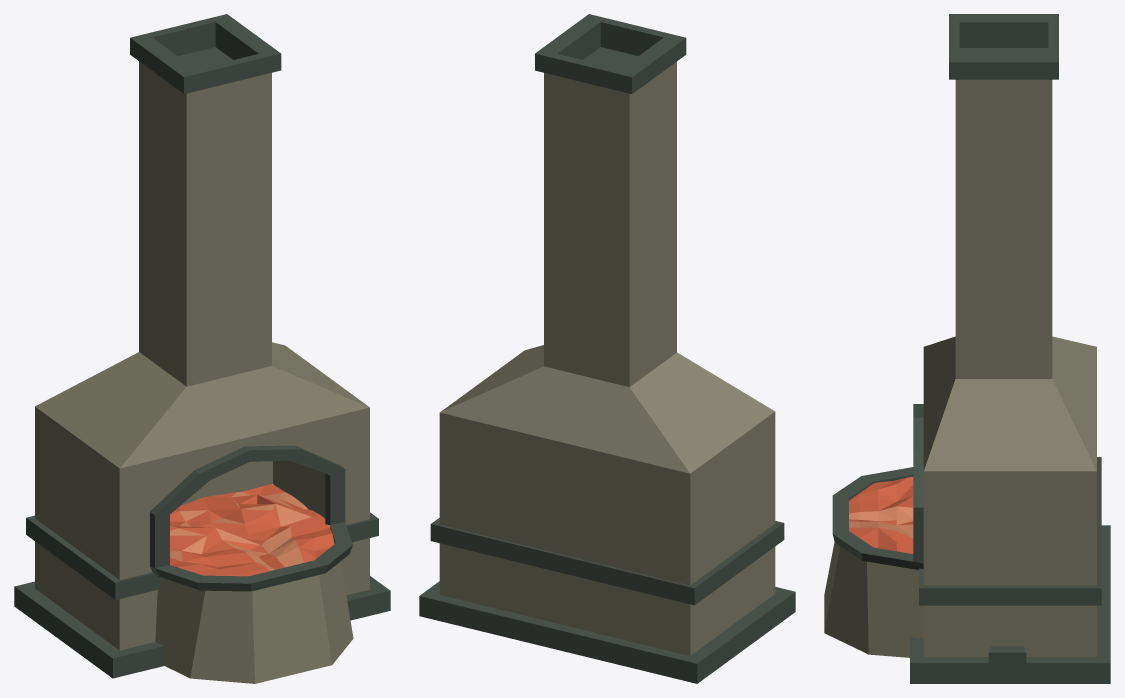
File: Heater_2_mat.fbx
3 views of the same model, side by side, from view 1: azimuth 30°, elevation 25°; view 2: azimuth 150°, elevation 25°; view 3: azimuth 270°, elevation 25° (orthographic). The views are drawn at different scales.
Visible parts, largest first — view 1: Heater_2_mat; view 2: Heater_2_mat; view 3: Heater_2_mat.
Part boxes in pixels (bbox=[...]): Heater_2_mat: bbox=[14, 14, 390, 683]; Heater_2_mat: bbox=[419, 14, 795, 683]; Heater_2_mat: bbox=[824, 14, 1110, 683].
Bounding box in the file's own units: 1.42 × 2.77 × 1.25.
